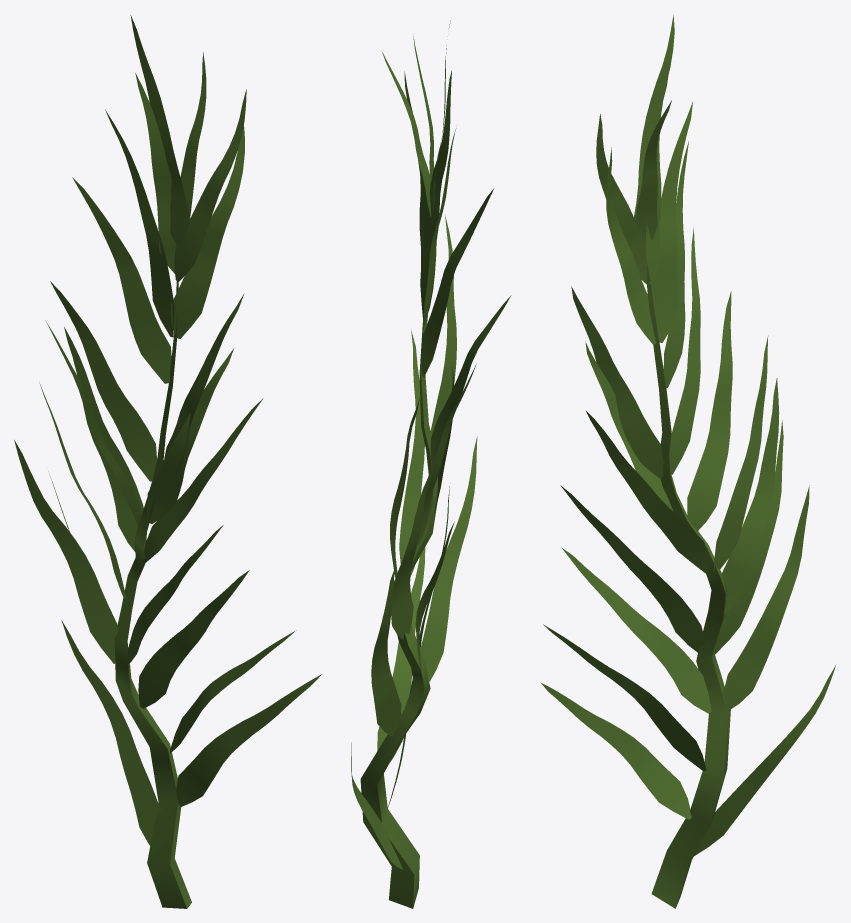
The model's file is plant_swamp_kelp_floor_F.fbx.
3 renders of one model, left to right at view 1: azimuth 30°, elevation 25°; view 2: azimuth 150°, elevation 25°; view 3: azimuth 270°, elevation 25°, orthographic. The views are drawn at different scales.
Parts seen in each view (by area): view 1: plant_swamp_kelp_floor_F; view 2: plant_swamp_kelp_floor_F; view 3: plant_swamp_kelp_floor_F.
Boxes of the visible parts, x1=… form: plant_swamp_kelp_floor_F: x1=14, y1=15, x2=321, y2=908; plant_swamp_kelp_floor_F: x1=351, y1=20, x2=511, y2=908; plant_swamp_kelp_floor_F: x1=541, y1=15, x2=835, y2=908.
Size of the model in its own units: 53.69 by 240 by 74.48.
